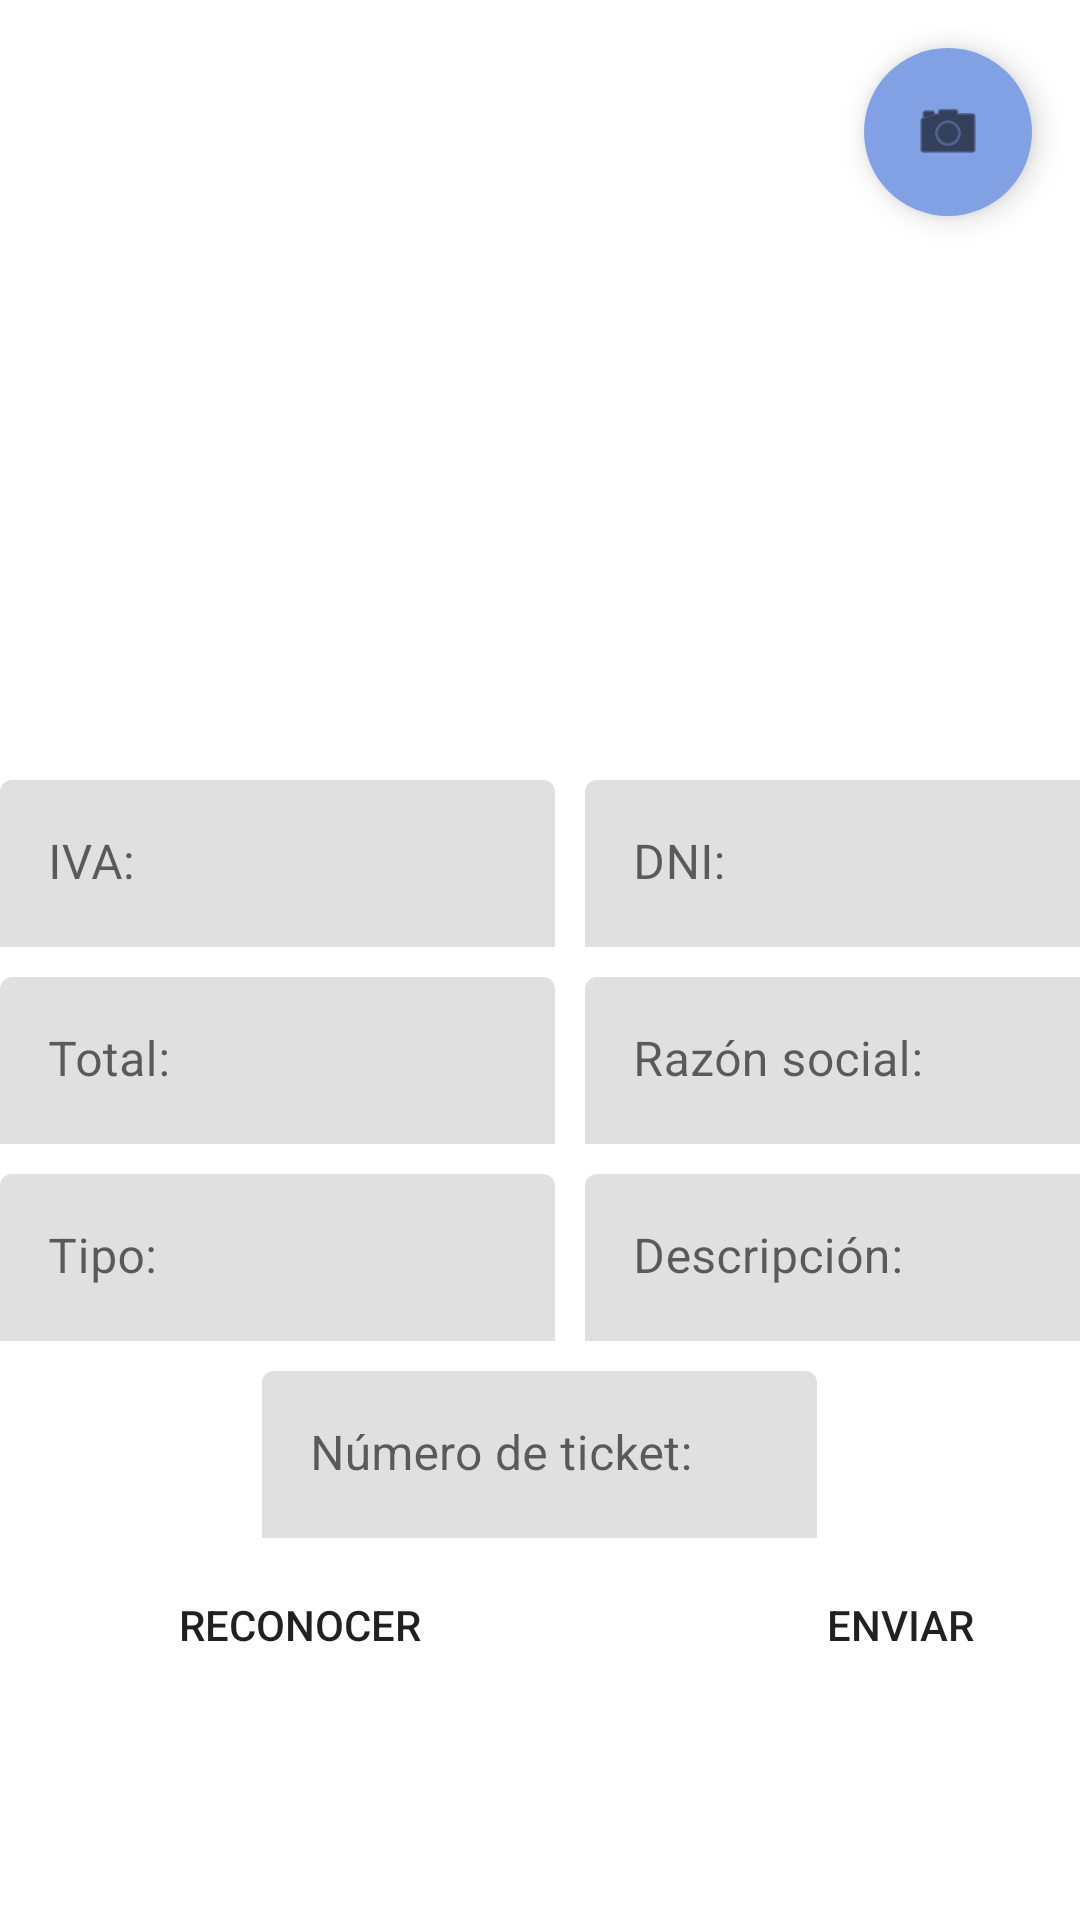

Where to tap for icons on this 1080×1920 app screen, as point (x, y):
camera: point (948, 132)
